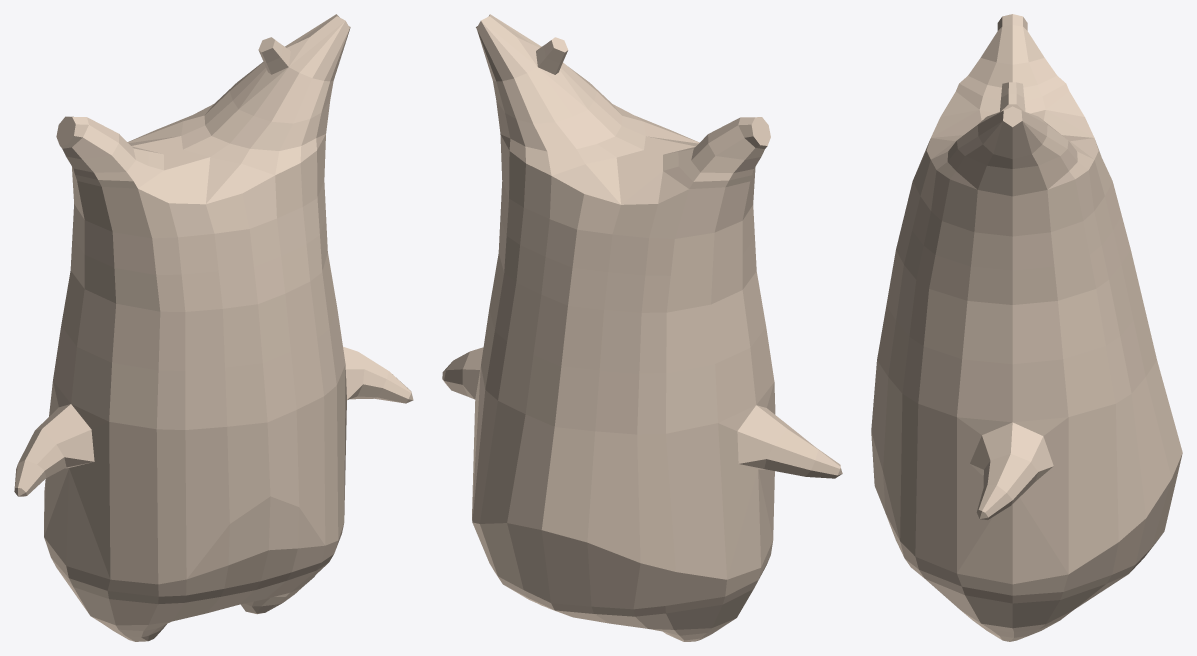
Rendered from frame_0015.obj.
3 renders of one model, left to right at view 1: azimuth 30°, elevation 25°; view 2: azimuth 150°, elevation 25°; view 3: azimuth 270°, elevation 25°, orthographic.
Parts seen in each view (by area): view 1: korok; view 2: korok; view 3: korok.
Boxes of the visible parts, x1,y1,x2,y2 form: korok: (14,14,413,641); korok: (442,14,842,641); korok: (871,14,1182,641).
Size of the model in its own units: 1.56 by 2.16 by 1.07.
